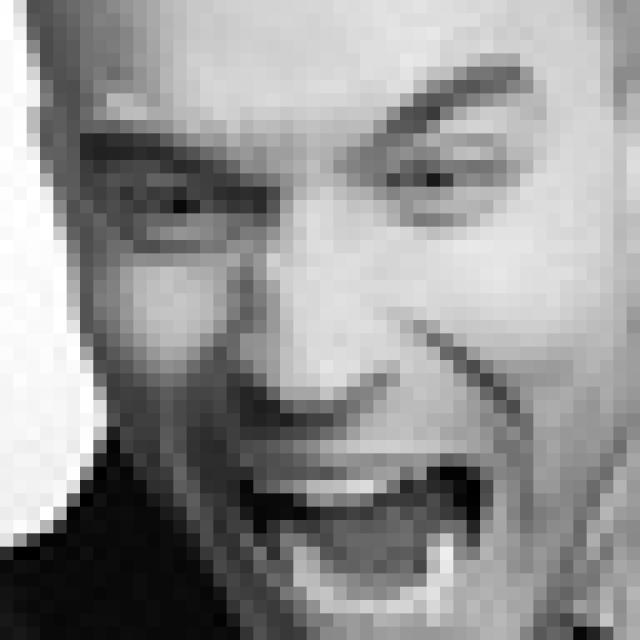angry: (85, 54, 544, 640)
